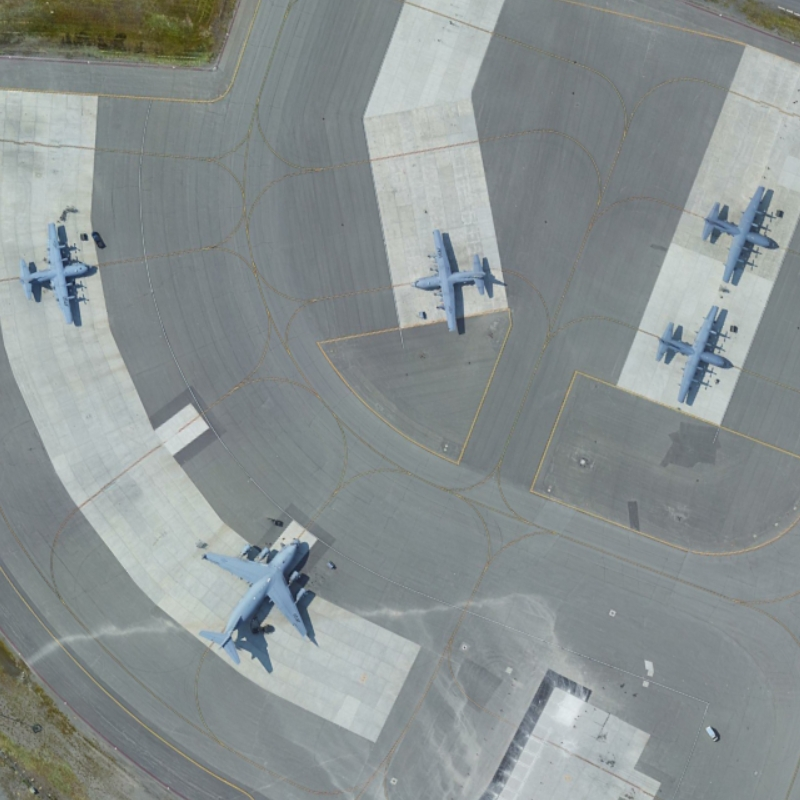A2: (409, 221, 503, 338), (691, 177, 785, 289), (11, 215, 100, 333), (645, 300, 738, 408)
A3: (192, 533, 319, 675)
